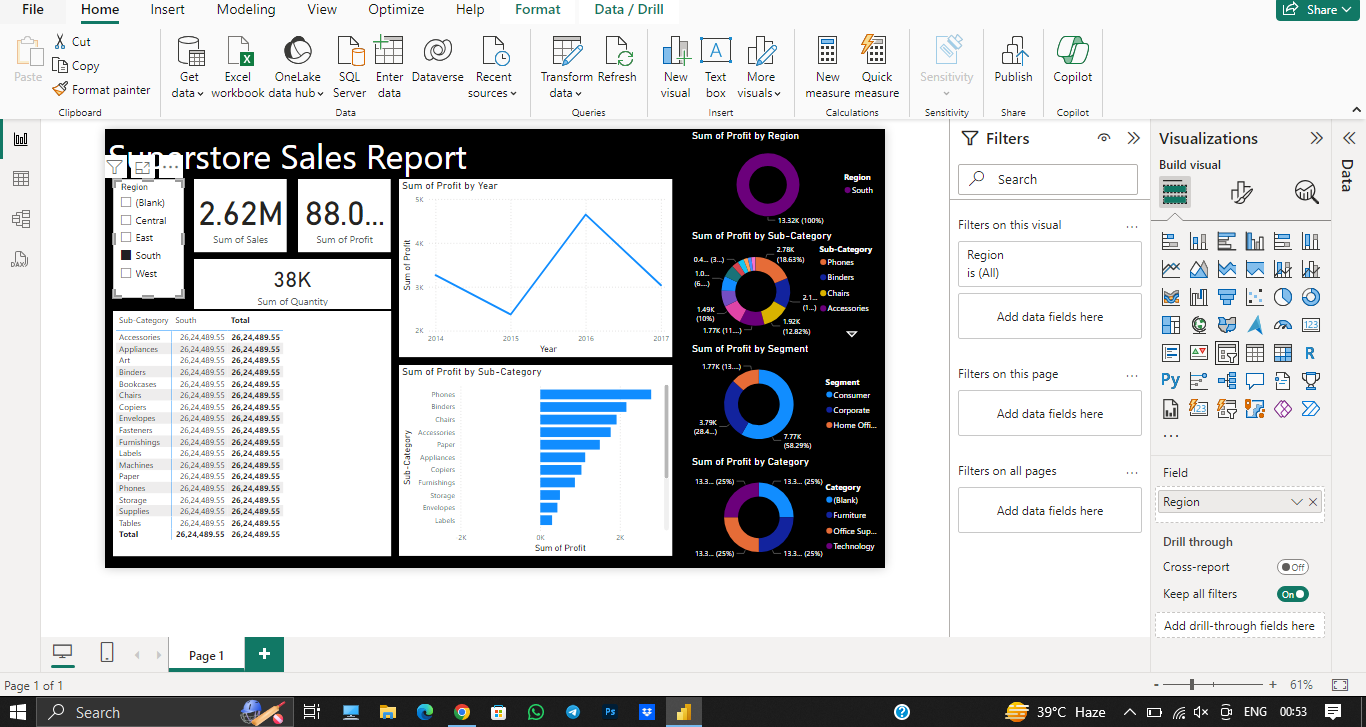

The page's visual inventory and layout, read from the dashboard file:
{"tool":"powerbi","page":{"name":"Superstore Sales","canvas":[1280,720],"ordinal":0},"visuals":[{"type":"textbox","box":[0,0,854.1,137.7],"z":0},{"type":"donutChart","fields":{"Category":["Orders.Category"],"Y":["Sum(Orders (3).Profit)"]},"box":[957.4,534.4,323,185.2],"z":1000},{"type":"donutChart","fields":{"Category":["Orders (3).Segment"],"Y":["Sum(Orders (3).Profit)"]},"box":[957.4,349.2,323,185.2],"z":2000},{"type":"donutChart","fields":{"Category":["Orders (3).Sub-Category"],"Y":["Sum(Orders (3).Profit)"]},"box":[957.4,163.9,323,185.2],"z":3000},{"type":"donutChart","fields":{"Category":["Orders (3).Region"],"Y":["Sum(Orders (3).Profit)"]},"box":[957.4,0,323,163.9],"z":4000},{"type":"barChart","fields":{"Category":["Orders (3).Sub-Category"],"Y":["Sum(Orders (3).Profit)"]},"box":[482,386.9,447.5,313.1],"z":5000},{"type":"lineChart","fields":{"Category":["Orders (3).Order Date.Variation.Date Hierarchy.Year","Orders (3).Order Date.Variation.Date Hierarchy.Quarter"],"Y":["Sum(Orders (3).Profit)"]},"box":[482,82,447.5,291.8],"z":6000},{"type":"slicer","fields":{"Values":["Orders (3).Region"]},"box":[13.1,82,116.4,195.1],"z":7000},{"type":"pivotTable","fields":{"Rows":["Orders (3).Sub-Category"],"Columns":["Orders (3).Region"],"Values":["Sum(Orders (4).Sales)"]},"box":[13.1,298.4,455.7,401.6],"z":8000},{"type":"card","fields":{"Values":["Sum(Orders (4).Sales)"]},"box":[145.9,82,152.5,119.7],"z":9000},{"type":"card","fields":{"Values":["Sum(Orders (4).Profit)"]},"box":[316.4,82,152.5,119.7],"z":10000},{"type":"card","fields":{"Values":["Sum(Orders (4).Quantity)"]},"box":[145.9,213.1,323,82],"z":11000}]}

Visuals, with their boxes on the page's 1280x720 design canvas (x1, y1, x2, y2). These are canvas units, not pixel positions in the 1366x727 screenshot, which may show the page scaled, cropped or inside an application window:
textbox: 0,0,854,138
donutChart - Orders.Category x Sum(Orders (3).Profit): 957,534,1280,720
donutChart - Orders (3).Segment x Sum(Orders (3).Profit): 957,349,1280,534
donutChart - Orders (3).Sub-Category x Sum(Orders (3).Profit): 957,164,1280,349
donutChart - Orders (3).Region x Sum(Orders (3).Profit): 957,0,1280,164
barChart - Orders (3).Sub-Category x Sum(Orders (3).Profit): 482,387,930,700
lineChart - Orders (3).Order Date.Variation.Date Hierarchy.Year x Orders (3).Order Date.Variation.Date Hierarchy.Quarter: 482,82,930,374
slicer - Orders (3).Region: 13,82,130,277
pivotTable - Orders (3).Sub-Category x Orders (3).Region: 13,298,469,700
card - Sum(Orders (4).Sales): 146,82,298,202
card - Sum(Orders (4).Profit): 316,82,469,202
card - Sum(Orders (4).Quantity): 146,213,469,295
